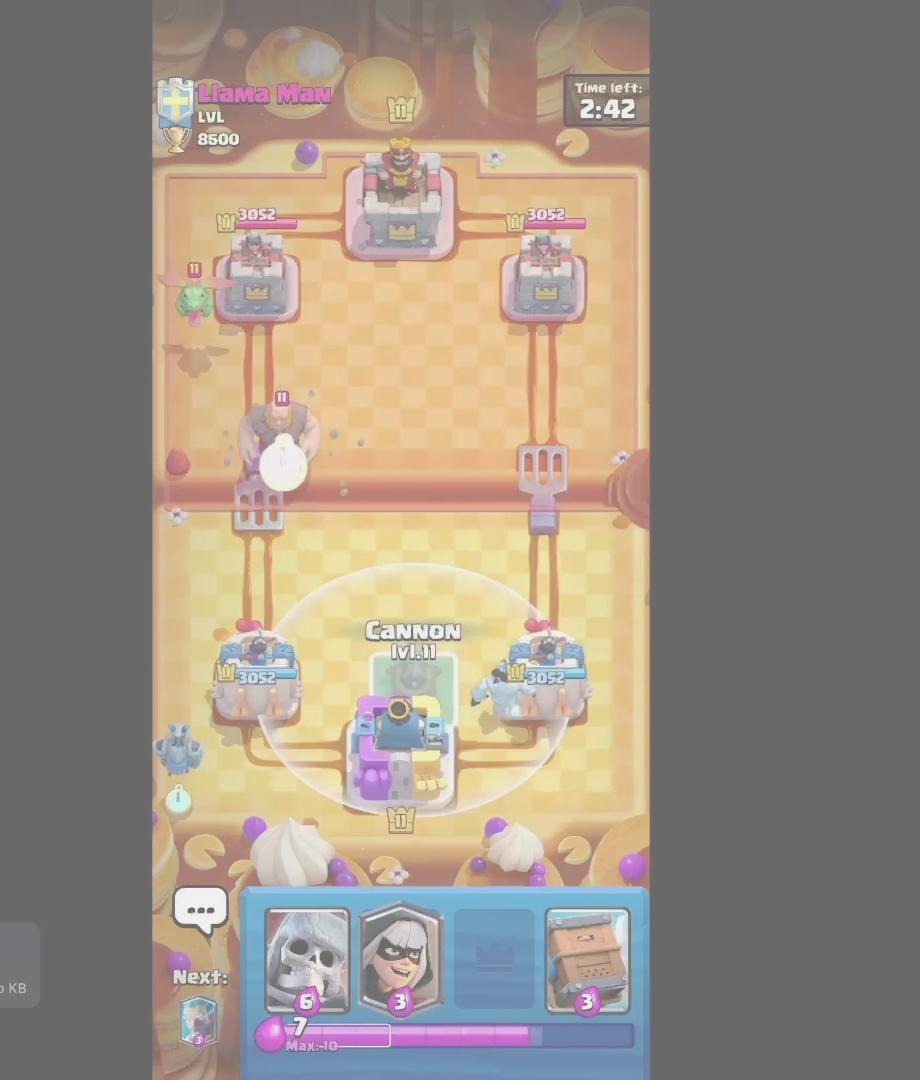Baby Dragon: (156, 257, 246, 334)
Giant: (228, 383, 330, 492)
